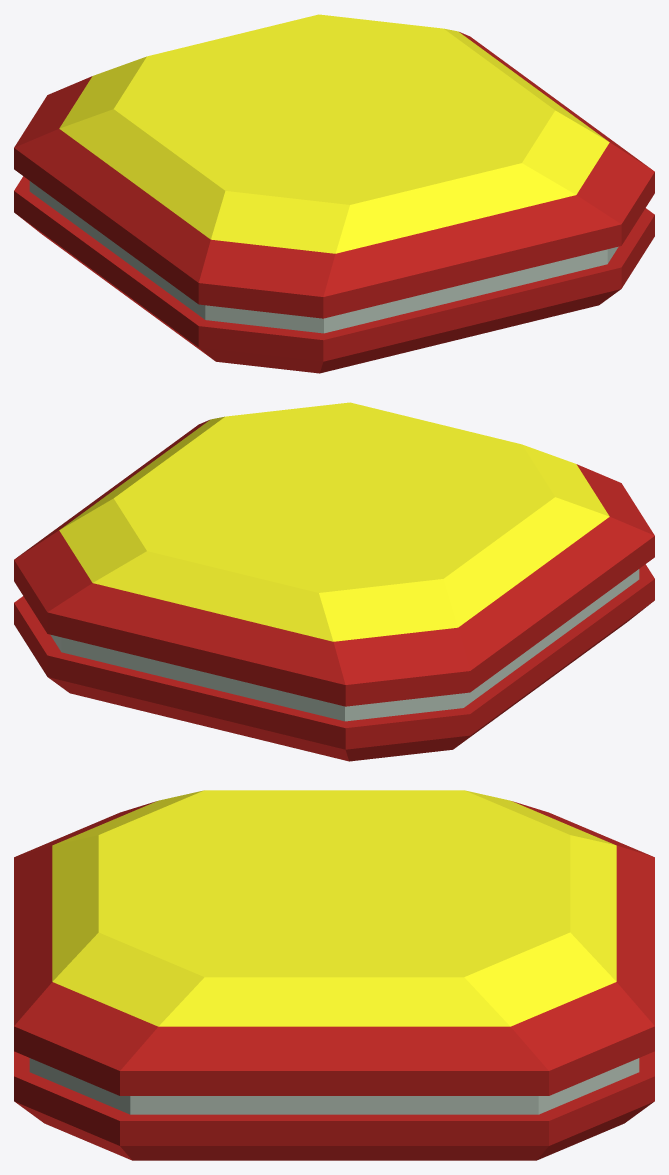
File: floating platform.fbx
3 views of the same model, one above another, from view 1: azimuth 30°, elevation 25°; view 2: azimuth 150°, elevation 25°; view 3: azimuth 270°, elevation 25° (orthographic). The views are drawn at different scales.
Visible parts, largest first — view 1: Cube.008; view 2: Cube.008; view 3: Cube.008.
Boxes of the visible parts, x1,y1,x2,y2 form: Cube.008: (14,14,654,373); Cube.008: (14,402,654,761); Cube.008: (14,790,654,1160).
Bounding box in the file's own units: 310 × 131 × 325.
